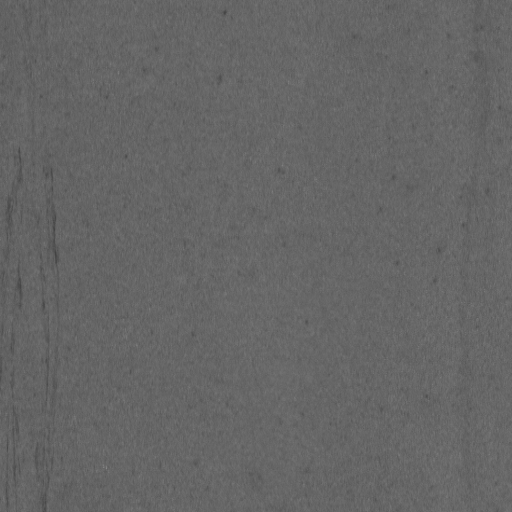zongxianghuashang: (35, 163, 65, 512), (8, 141, 23, 508)
